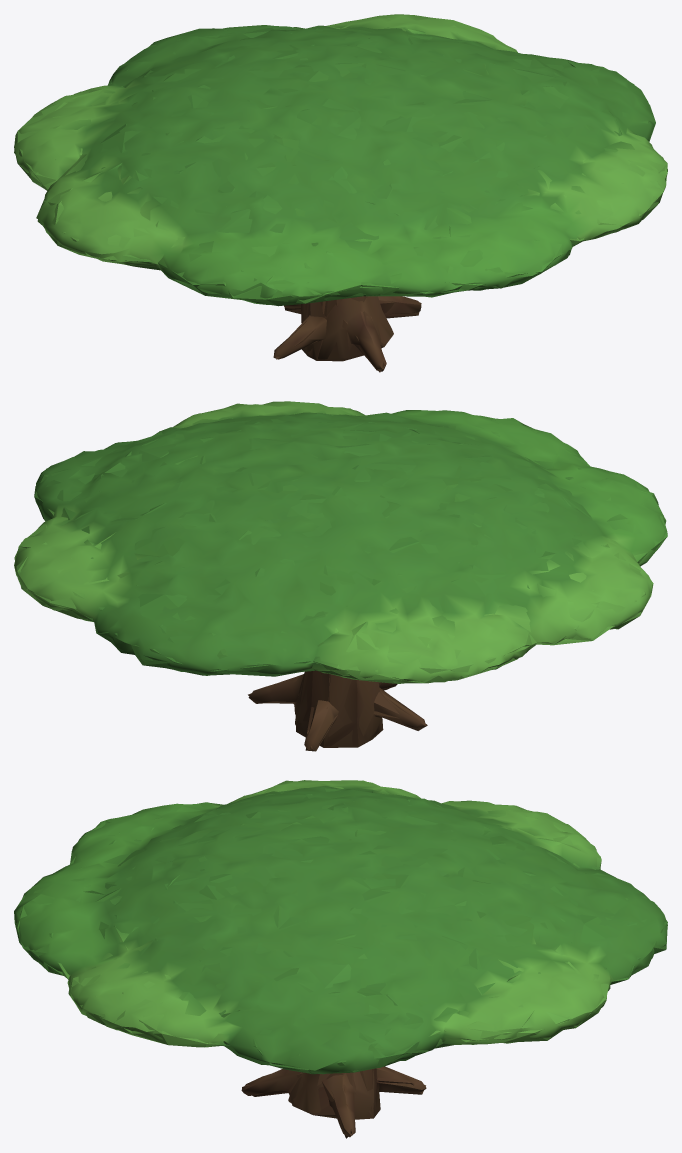
The model's file is broadleaf_wide_low.glb.
3 views of the same model, one above another, from view 1: azimuth 30°, elevation 25°; view 2: azimuth 150°, elevation 25°; view 3: azimuth 270°, elevation 25° (orthographic).
Parts seen in each view (by area): view 1: broadleaf_wide_low_LOD1, broadleaf_wide_low_LOD2; view 2: broadleaf_wide_low_LOD1, broadleaf_wide_low_LOD2; view 3: broadleaf_wide_low_LOD1, broadleaf_wide_low_LOD2.
Boxes of the visible parts, box(x1,y1,x2,y2) form: broadleaf_wide_low_LOD1: box(14, 14, 667, 371); broadleaf_wide_low_LOD2: box(14, 18, 667, 372); broadleaf_wide_low_LOD1: box(14, 401, 667, 750); broadleaf_wide_low_LOD2: box(14, 405, 667, 751); broadleaf_wide_low_LOD1: box(14, 780, 667, 1137); broadleaf_wide_low_LOD2: box(16, 780, 667, 1138).
Size of the model in its own units: 6.34 by 2.64 by 6.18.
